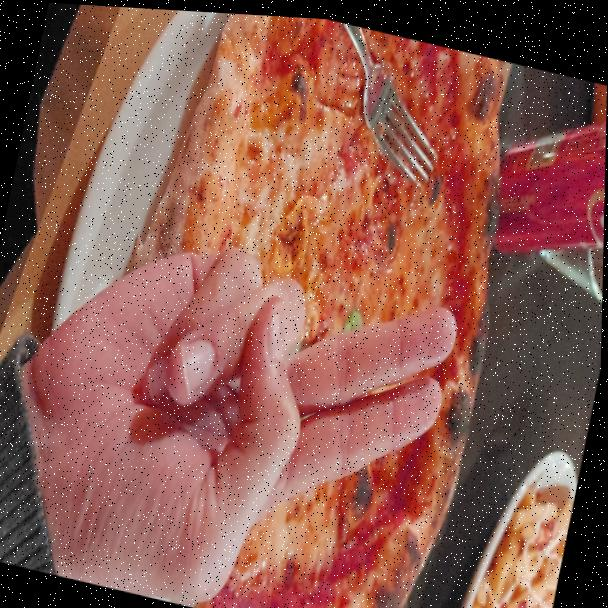two: (19, 187, 481, 608)
